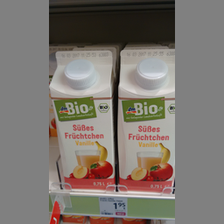juice: (50, 51, 115, 191), (115, 50, 175, 194)
